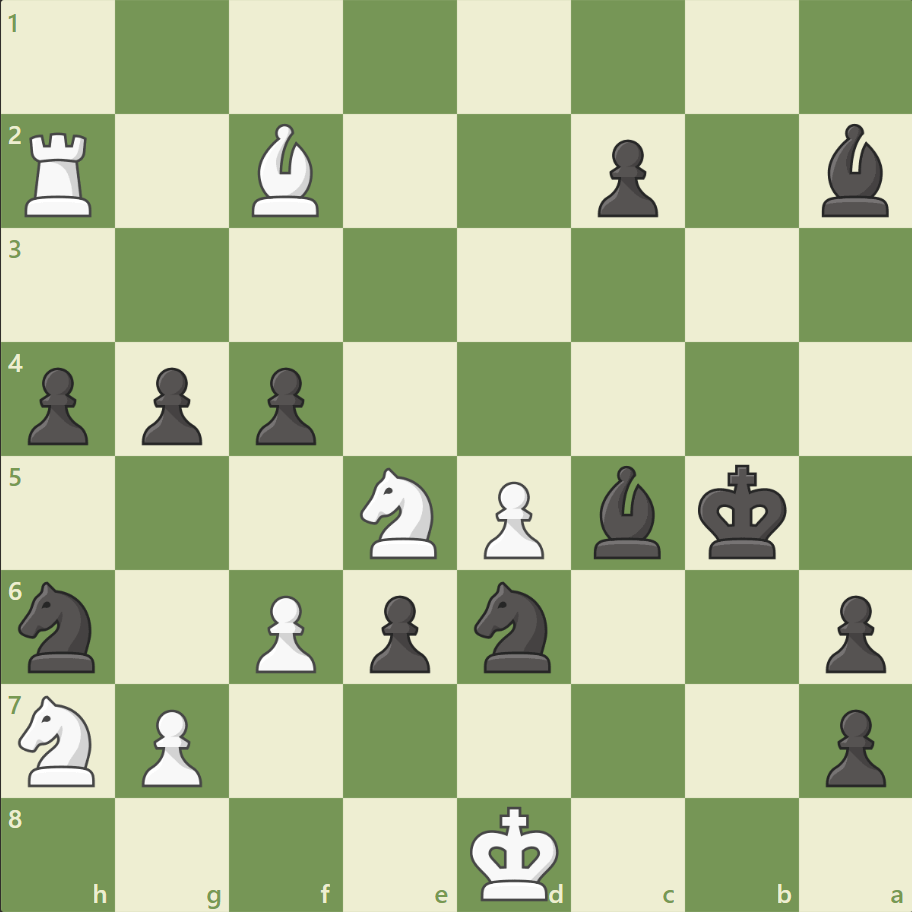B: (244, 120, 328, 222)
K: (465, 798, 565, 906)
N: (351, 461, 449, 564), (11, 688, 108, 791)
P: (133, 700, 208, 791), (247, 586, 322, 677), (474, 473, 549, 564)
R: (19, 125, 102, 222)
b: (585, 460, 669, 563), (812, 120, 896, 222)
k: (692, 458, 792, 566)
n: (465, 575, 562, 677), (11, 575, 108, 677)
p: (247, 359, 322, 450), (133, 359, 208, 450), (20, 359, 95, 450), (815, 700, 889, 791), (815, 586, 889, 677), (361, 586, 435, 677), (588, 132, 662, 223)
